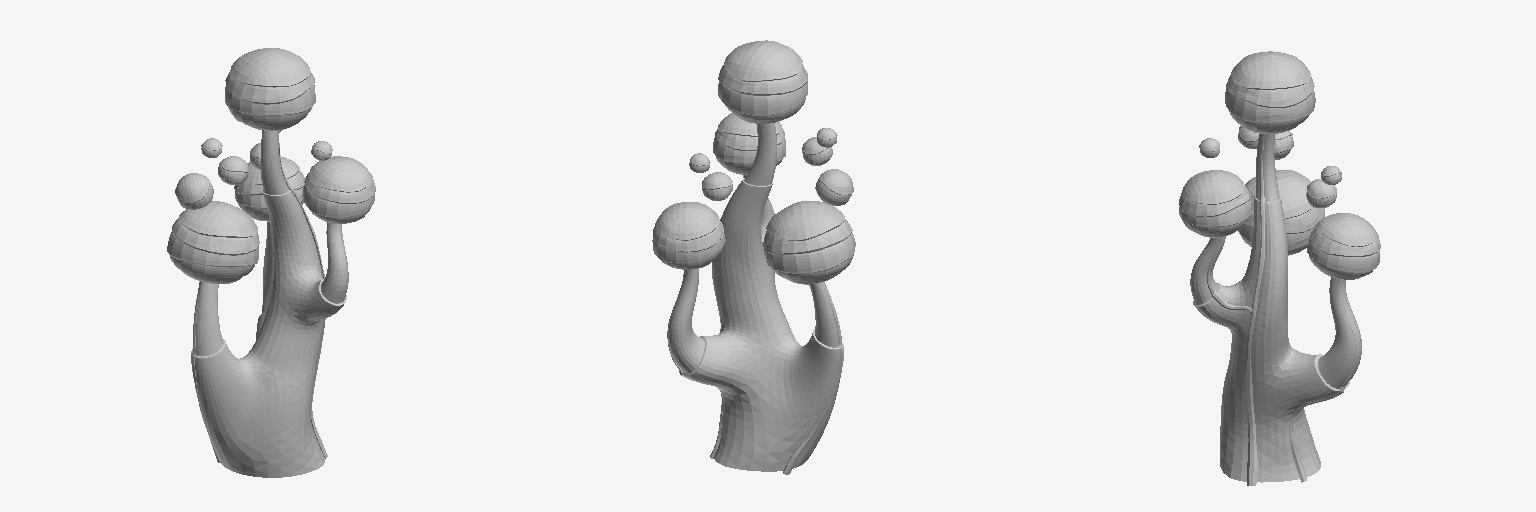
Rendered from tree-02-old.obj.
The picture shows the model from 3 angles: view 1: azimuth 30°, elevation 25°; view 2: azimuth 150°, elevation 25°; view 3: azimuth 270°, elevation 25°; orthographic projection.
Visible parts, largest first — view 1: trunk tree_02 Trees, tree_02 Trees section_01 bulb_large_06, tree_02 Trees section_01 bulb_large_07, tree_02 Trees section_01 bulb_large_05, tree_02 Trees bulb_large_07 section_02, tree_02 Trees bulb_large_06 section_02, tree_02 Trees bulb_large_07 section_03, tree_02 Trees bulb_large_06 section_03, tree_02 Trees bulb_large_05 section_03, tree_02 Trees vines, tree_02 Trees bulb_large_05 section_02, tree_02 Trees bulb_large_07 section_04 (+2 smaller); view 2: trunk tree_02 Trees, tree_02 Trees section_01 bulb_large_06, tree_02 Trees section_01 bulb_large_07, tree_02 Trees section_01 bulb_large_04, tree_02 Trees bulb_large_07 section_03, tree_02 Trees bulb_large_06 section_03, tree_02 Trees bulb_large_07 section_02, tree_02 Trees bulb_large_06 section_02, tree_02 Trees vines, tree_02 Trees bulb_large_04 section_02, tree_02 Trees bulb_large_04 section_03, tree_02 Trees bulb_large_05 section_03 (+3 smaller); view 3: trunk tree_02 Trees, tree_02 Trees vines, tree_02 Trees section_01 bulb_large_06, tree_02 Trees section_01 bulb_large_05, tree_02 Trees bulb_large_06 section_03, tree_02 Trees section_01 bulb_large_04, tree_02 Trees section_01 bulb_large_07, tree_02 Trees bulb_large_06 section_02, tree_02 Trees bulb_large_04 section_03, tree_02 Trees bulb_large_04 section_02, tree_02 Trees bulb_large_05 section_03, tree_02 Trees bulb_large_05 section_02 (+1 smaller).
Part boxes in pixels (bbox=[...]): trunk tree_02 Trees: bbox=[191, 130, 348, 477]; tree_02 Trees section_01 bulb_large_06: bbox=[231, 48, 310, 87]; tree_02 Trees section_01 bulb_large_07: bbox=[179, 201, 257, 237]; tree_02 Trees section_01 bulb_large_05: bbox=[309, 156, 372, 192]; tree_02 Trees bulb_large_07 section_02: bbox=[172, 218, 259, 255]; tree_02 Trees bulb_large_06 section_02: bbox=[225, 70, 314, 104]; tree_02 Trees bulb_large_07 section_03: bbox=[167, 232, 258, 267]; tree_02 Trees bulb_large_06 section_03: bbox=[225, 84, 315, 115]; tree_02 Trees bulb_large_05 section_03: bbox=[302, 185, 374, 217]; tree_02 Trees vines: bbox=[191, 143, 327, 462]; tree_02 Trees bulb_large_05 section_02: bbox=[304, 173, 375, 203]; tree_02 Trees bulb_large_07 section_04: bbox=[169, 254, 254, 277]; trunk tree_02 Trees: bbox=[668, 123, 841, 471]; tree_02 Trees section_01 bulb_large_06: bbox=[724, 40, 802, 81]; tree_02 Trees section_01 bulb_large_07: bbox=[766, 201, 844, 240]; tree_02 Trees section_01 bulb_large_04: bbox=[655, 202, 719, 240]; tree_02 Trees bulb_large_07 section_03: bbox=[764, 233, 855, 273]; tree_02 Trees bulb_large_06 section_03: bbox=[718, 81, 807, 115]; tree_02 Trees bulb_large_07 section_02: bbox=[763, 219, 852, 254]; tree_02 Trees bulb_large_06 section_02: bbox=[718, 64, 807, 95]; tree_02 Trees vines: bbox=[667, 176, 843, 474]; tree_02 Trees bulb_large_04 section_02: bbox=[653, 221, 723, 252]; tree_02 Trees bulb_large_04 section_03: bbox=[652, 234, 725, 263]; tree_02 Trees bulb_large_05 section_03: bbox=[713, 137, 785, 163]; trunk tree_02 Trees: bbox=[1190, 134, 1361, 482]; tree_02 Trees vines: bbox=[1207, 134, 1356, 485]; tree_02 Trees section_01 bulb_large_06: bbox=[1231, 51, 1310, 89]; tree_02 Trees section_01 bulb_large_05: bbox=[1182, 170, 1243, 204]; tree_02 Trees bulb_large_06 section_03: bbox=[1225, 88, 1315, 122]; tree_02 Trees section_01 bulb_large_04: bbox=[1315, 213, 1378, 246]; tree_02 Trees section_01 bulb_large_07: bbox=[1245, 170, 1313, 219]; tree_02 Trees bulb_large_06 section_02: bbox=[1226, 75, 1314, 107]; tree_02 Trees bulb_large_04 section_03: bbox=[1307, 239, 1379, 272]; tree_02 Trees bulb_large_04 section_02: bbox=[1310, 228, 1380, 256]; tree_02 Trees bulb_large_05 section_03: bbox=[1179, 198, 1251, 226]; tree_02 Trees bulb_large_05 section_02: bbox=[1179, 185, 1250, 217].
Bounding box in the file's own units: 1.76 × 4.19 × 1.87.